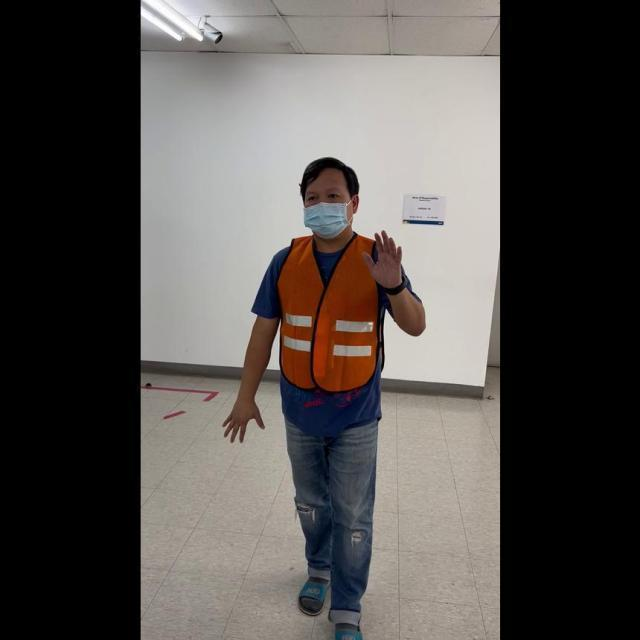bare_hand: (360, 224, 405, 289), (220, 394, 264, 444)
